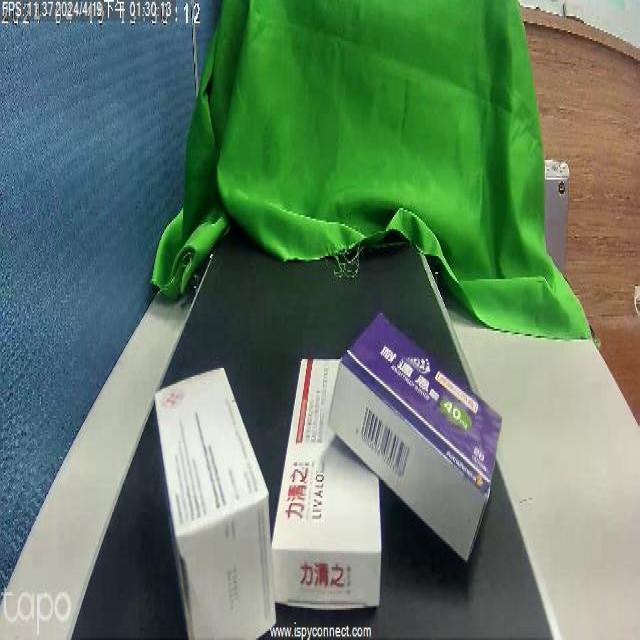box: (267, 366, 387, 617), (158, 364, 268, 625), (342, 326, 489, 518)
